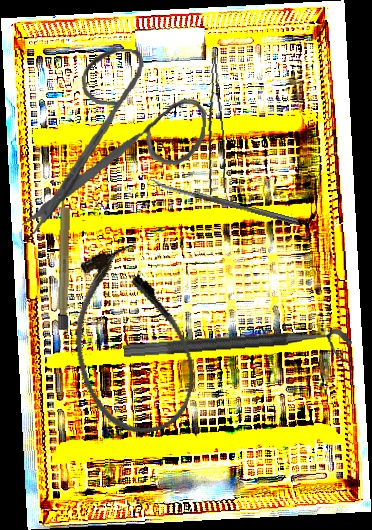Cannula: (52, 237, 208, 446)
Fixation Ring: (123, 327, 353, 377)
Iris Scissors: (21, 41, 212, 251)
Scalpel Handle: (57, 186, 72, 331)
Surgical Spoon: (146, 177, 301, 226)
Tissue Forceps: (195, 57, 231, 195)
